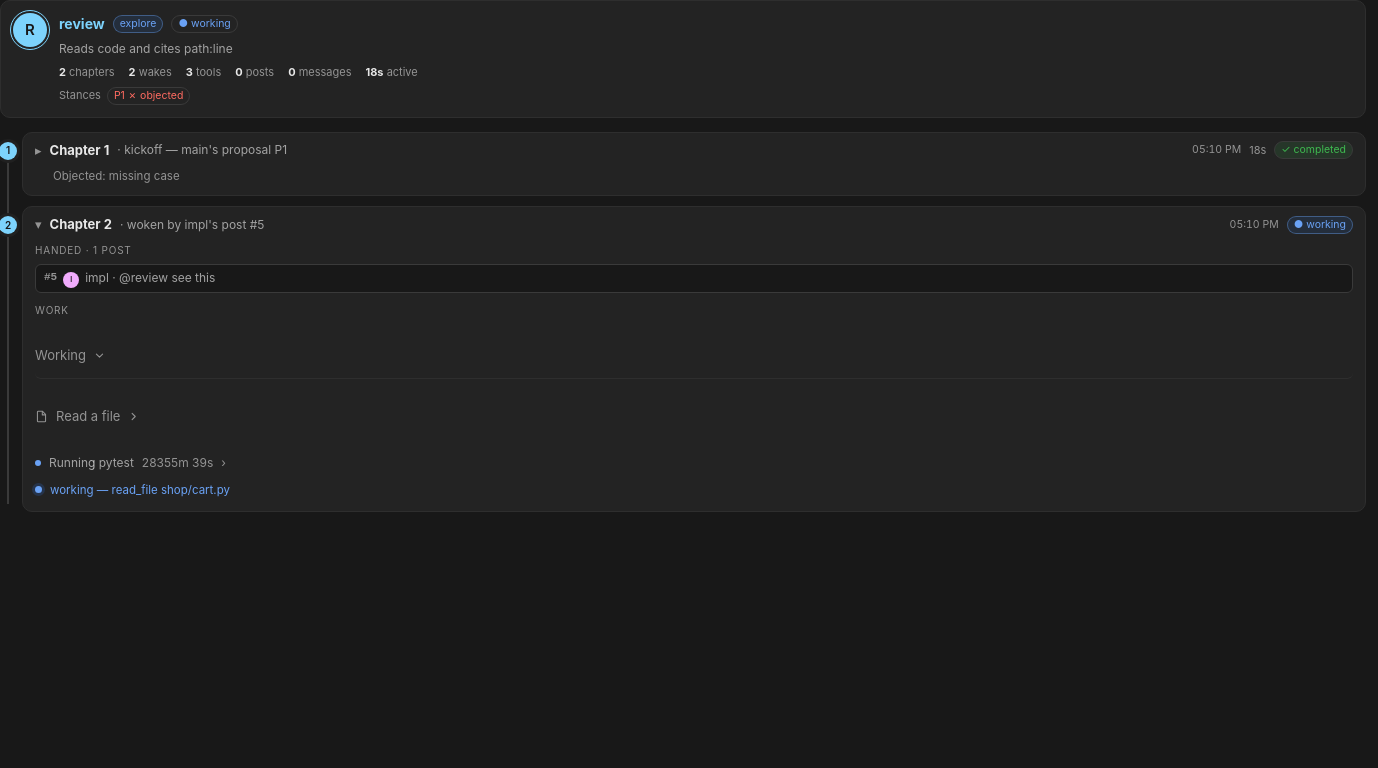
MemberView › groups finished live work in the current chapter and keeps the running step separate
The width and height of the screenshot is (1378, 768).
Expected: the element with test id "transient-text" reads "Running pytest", [49,454,134,472]
Click the button "Read a file". click: coordinates (87, 416)
box: [35,402,140,430]
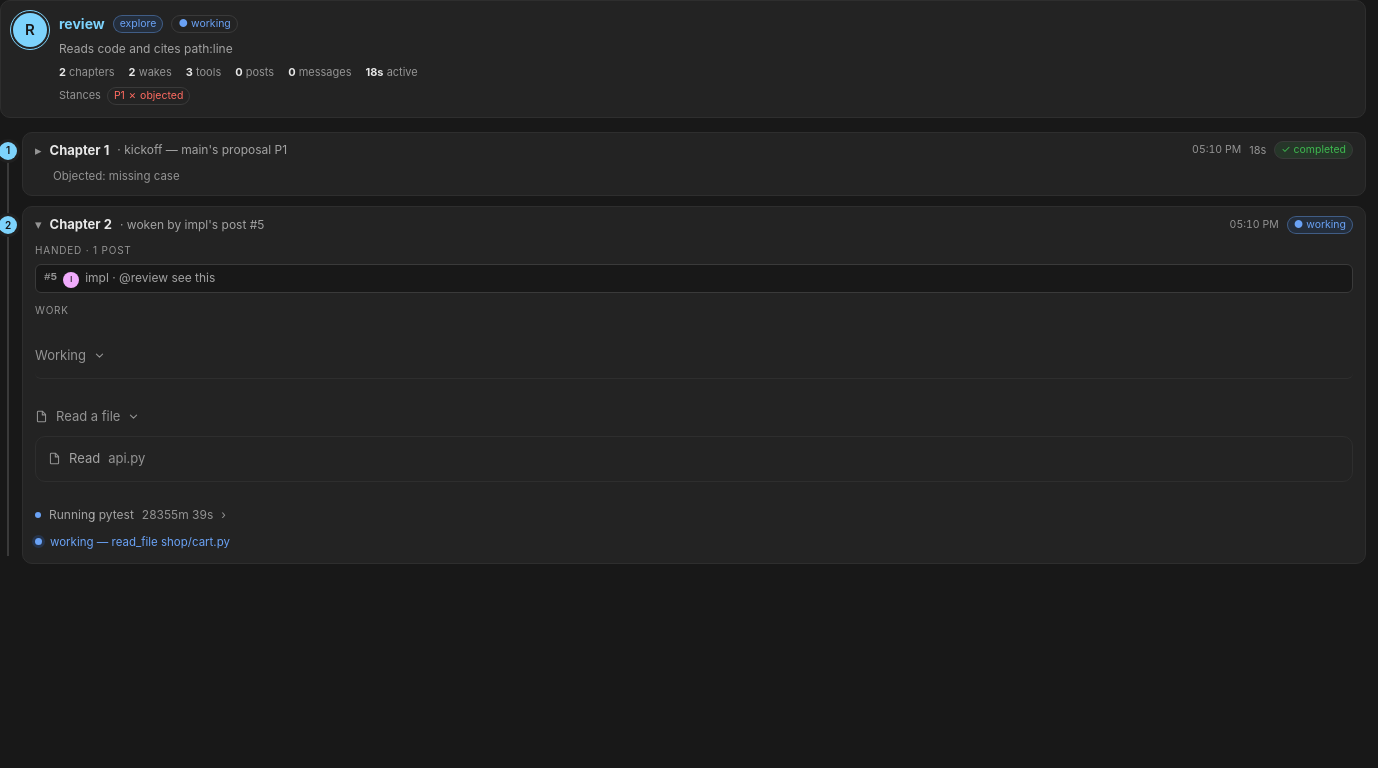
Now the button "Read api.py" is shown, box [48,449,1340,468]
